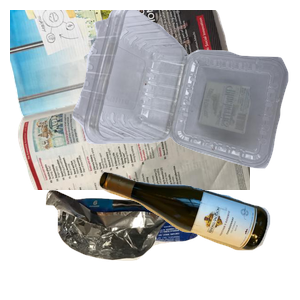glass: (95, 168, 300, 300)
paper: (10, 10, 250, 190)
plastic: (70, 10, 300, 171)
trash: (43, 187, 234, 300)
